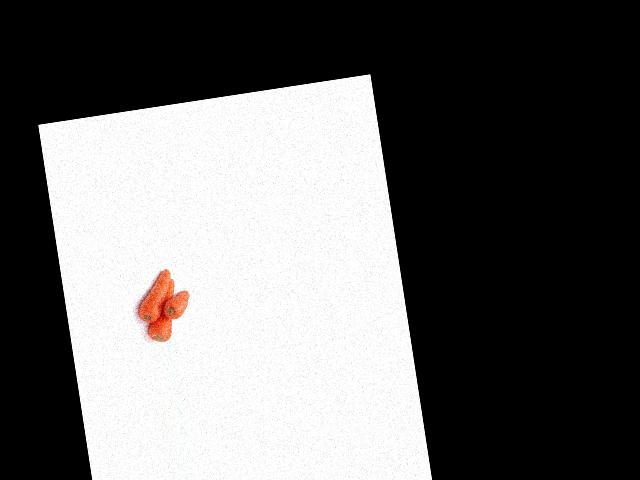carrot: (138, 277, 182, 343)
